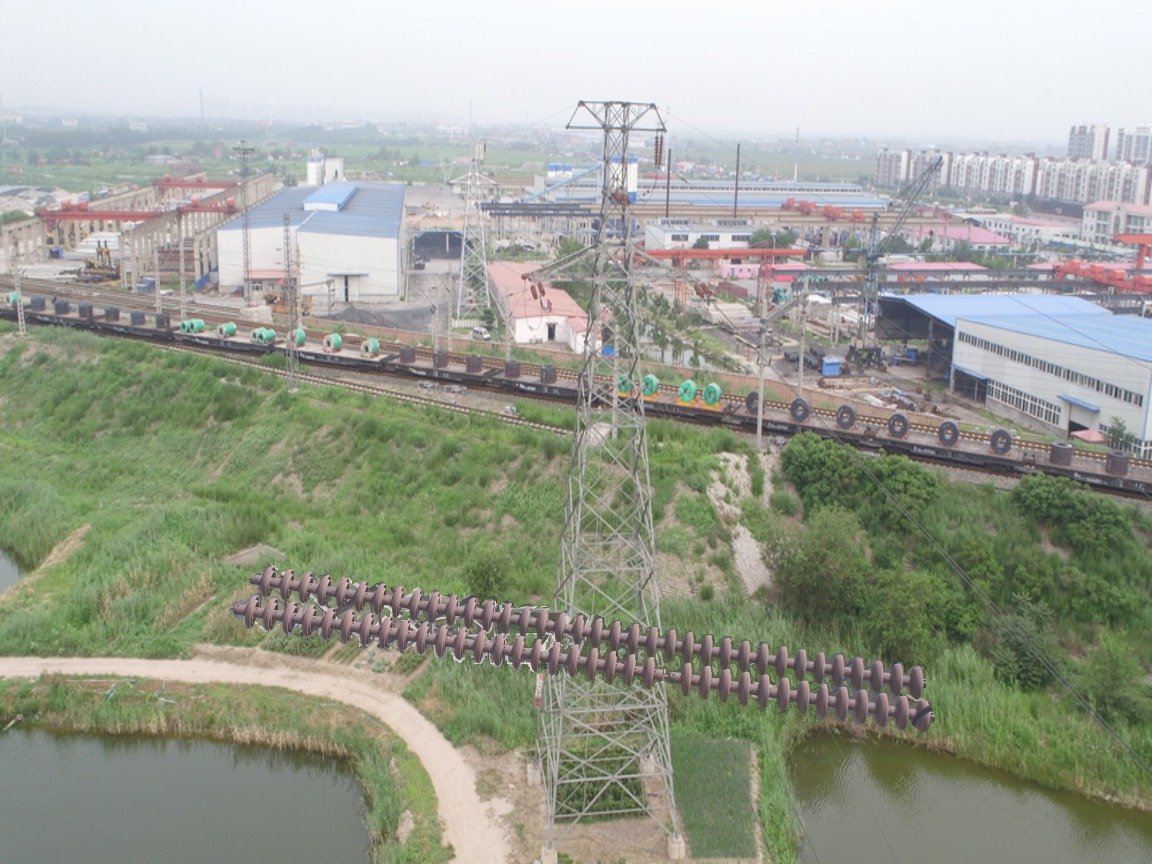defect: (634, 655, 698, 699)
